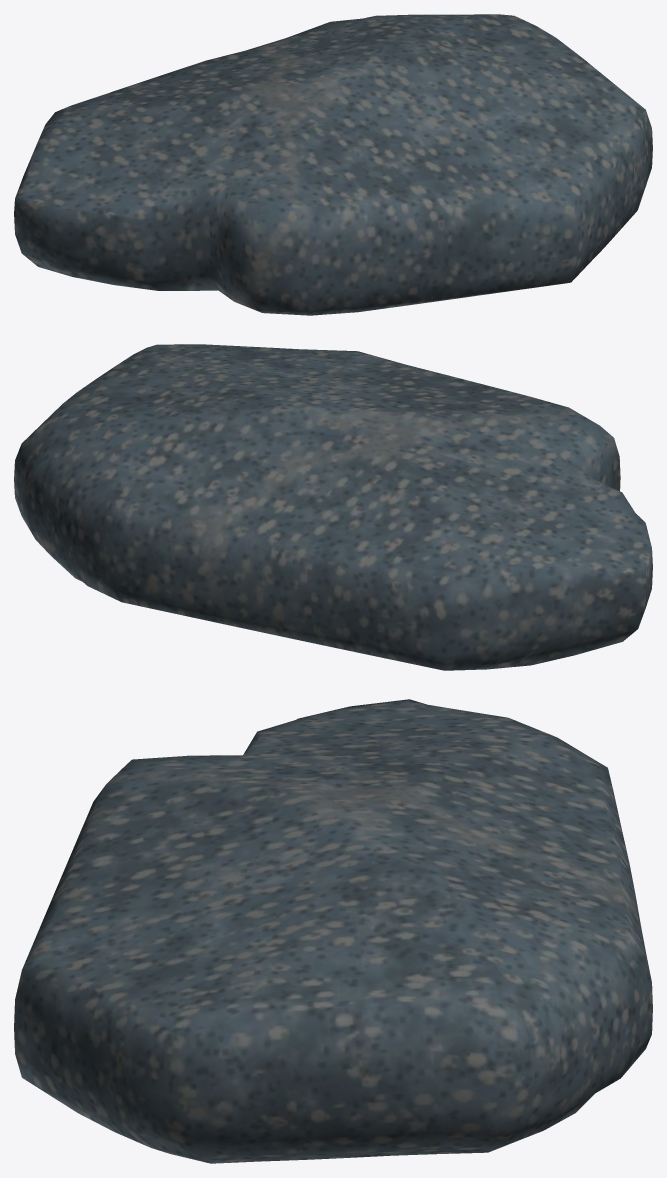
The model's file is jagged_gravel_05.glb.
The picture shows the model from 3 angles, top to bottom: view 1: azimuth 30°, elevation 25°; view 2: azimuth 150°, elevation 25°; view 3: azimuth 270°, elevation 25°; orthographic projection. The views are drawn at different scales.
Visible parts, largest first — view 1: jagged_gravel_05; view 2: jagged_gravel_05; view 3: jagged_gravel_05.
Boxes of the visible parts, x1,y1,x2,y2 form: jagged_gravel_05: (14, 14, 652, 315); jagged_gravel_05: (14, 344, 652, 670); jagged_gravel_05: (14, 699, 652, 1163).
Bounding box in the file's own units: 0.0704 × 0.0213 × 0.052.
1 material, 1 textured.
